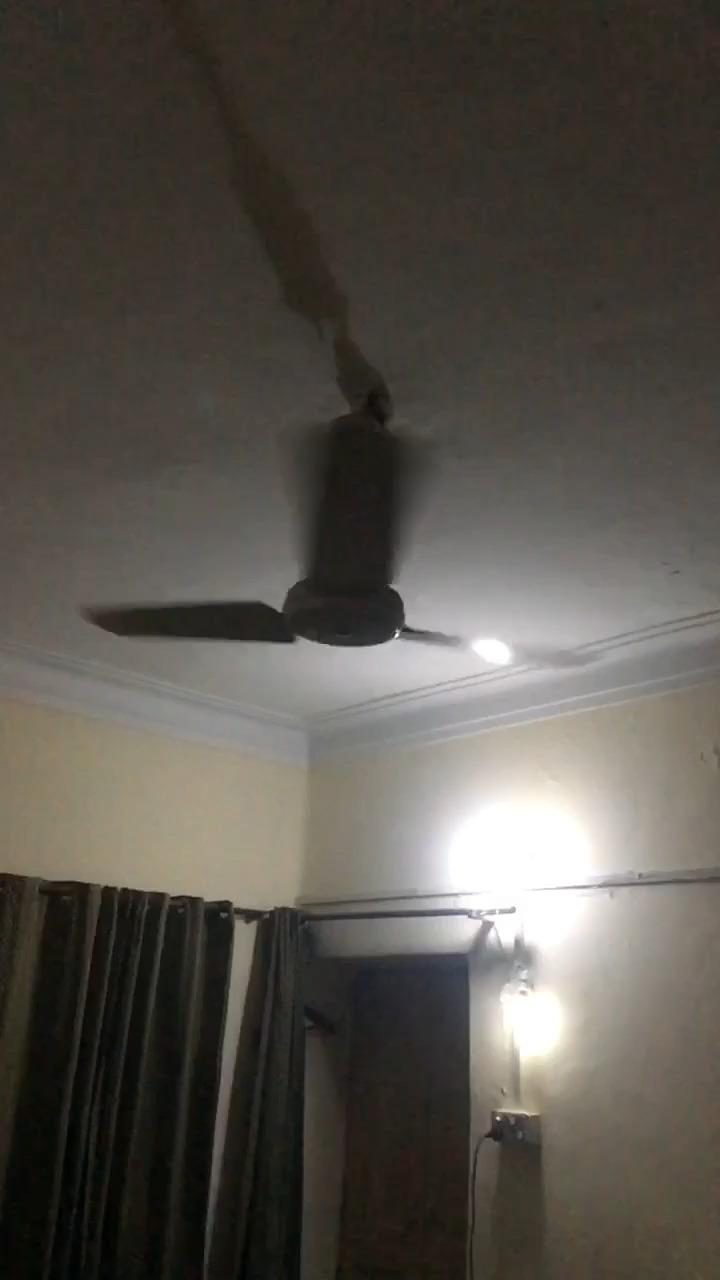fan: (78, 332, 463, 648)
